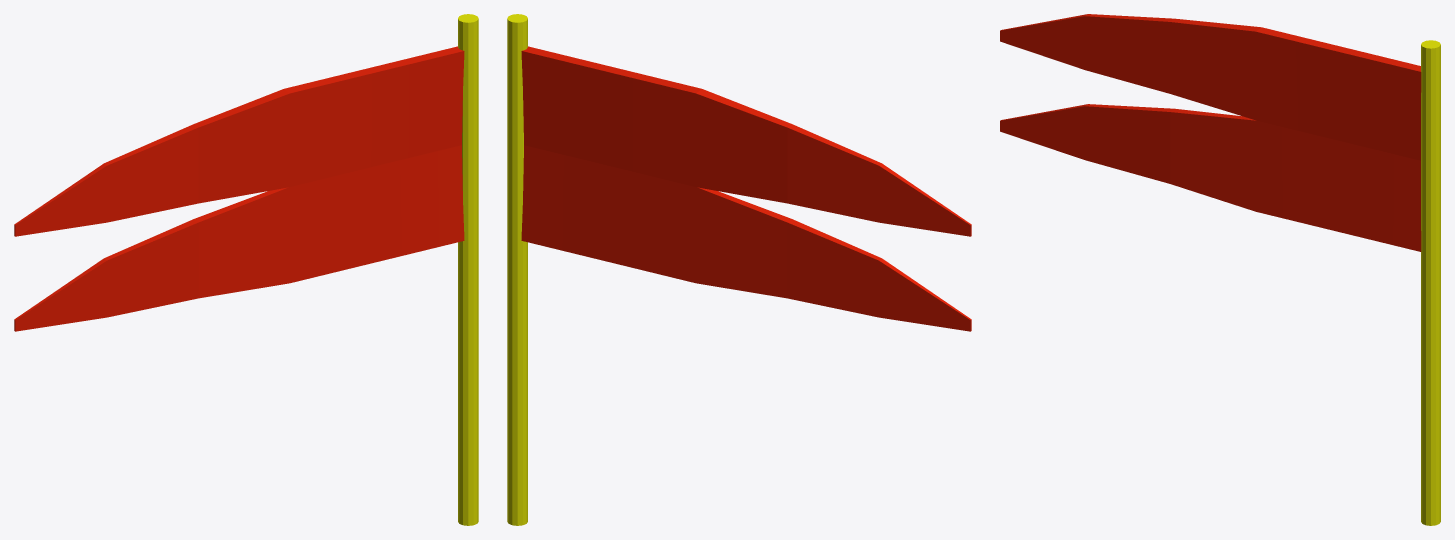
Rendered from Playground Flag.fbx.
The picture shows the model from 3 angles, left to right: view 1: azimuth 30°, elevation 25°; view 2: azimuth 150°, elevation 25°; view 3: azimuth 330°, elevation 25°; orthographic projection. The views are drawn at different scales.
Parts seen in each view (by area): view 1: Playground Flag; view 2: Playground Flag; view 3: Playground Flag.
Part boxes in pixels (x1,y1,x2,y2): Playground Flag: [14, 14, 478, 525]; Playground Flag: [507, 14, 971, 525]; Playground Flag: [1000, 14, 1440, 525].
Bounding box in the file's own units: 102 × 106 × 4.
